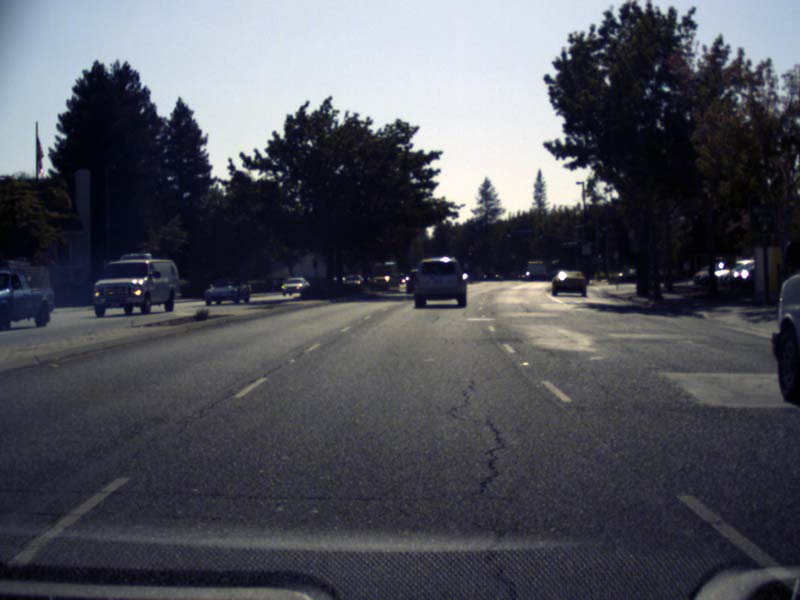Green: (503, 226, 512, 239), (537, 227, 544, 238), (596, 252, 603, 259)
